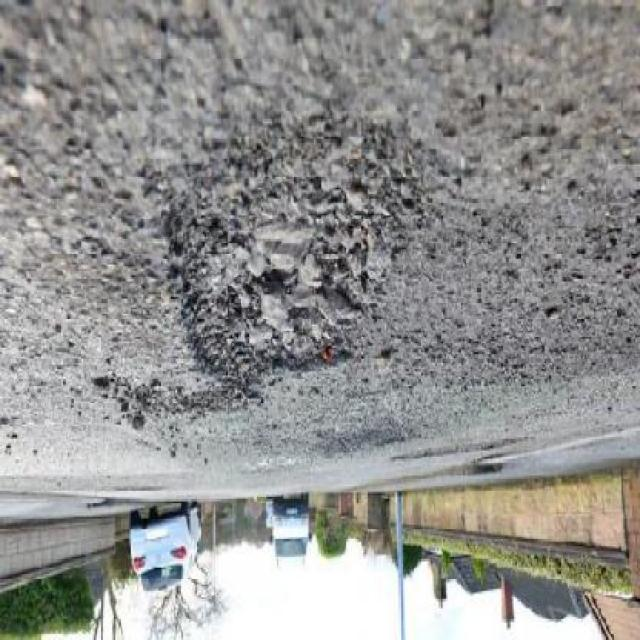pothole: (146, 122, 423, 403)
